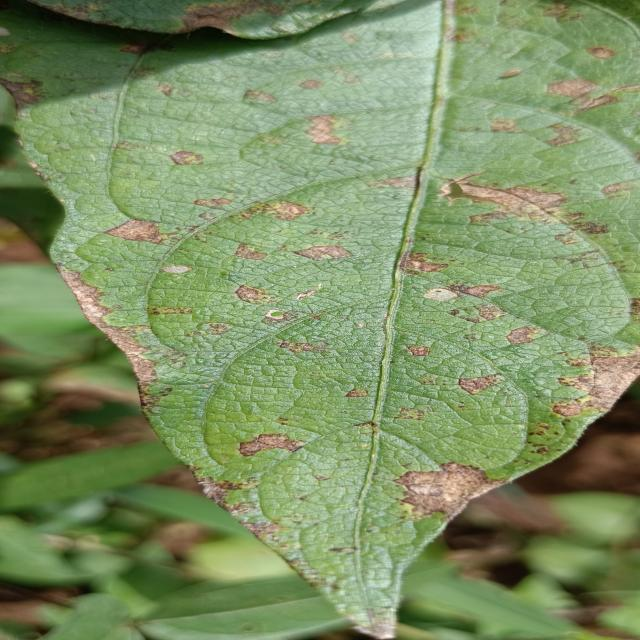Black gram_leaf spot: (0, 12, 640, 615)
